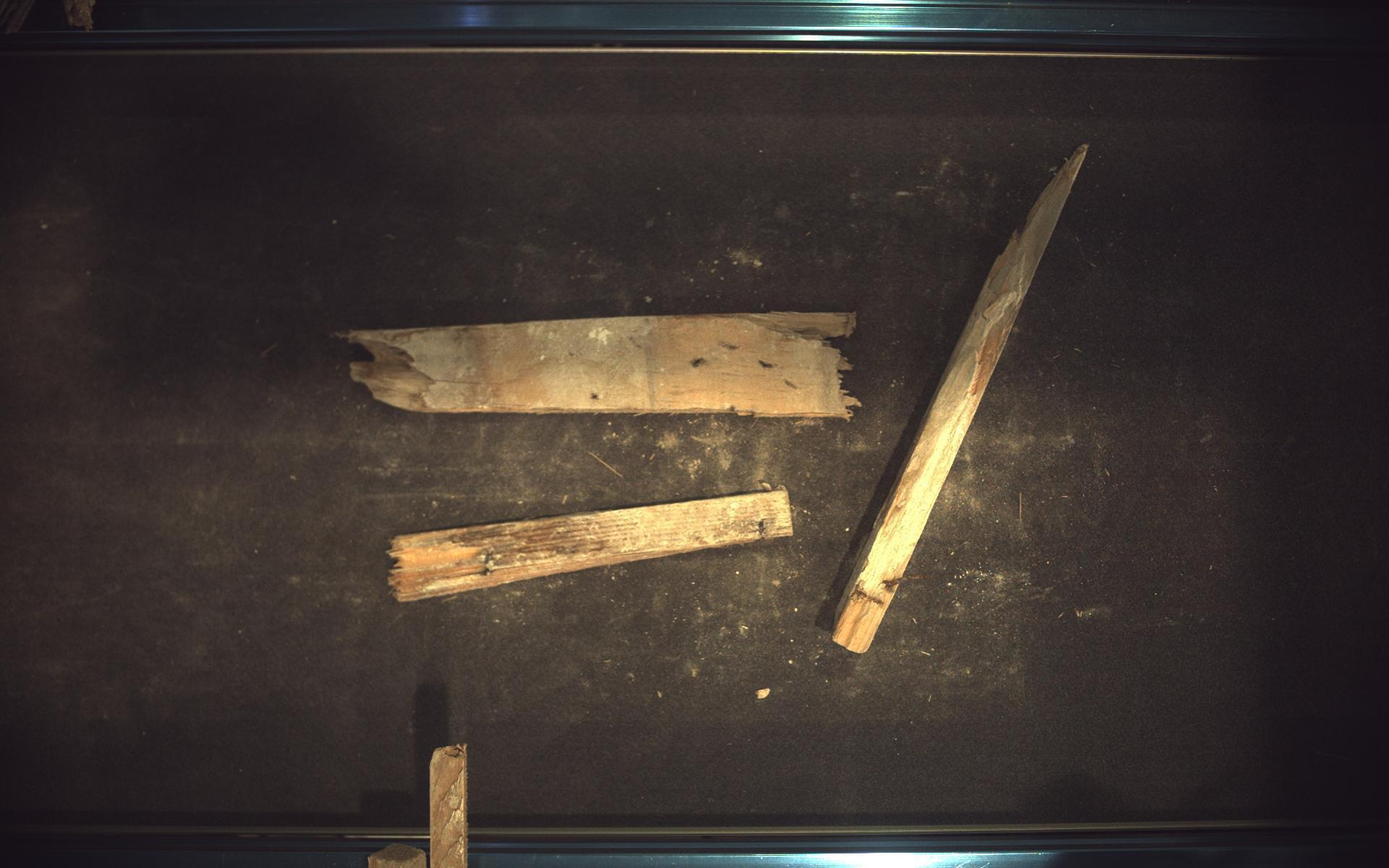wood: (346, 312, 859, 417), (388, 489, 794, 603)
